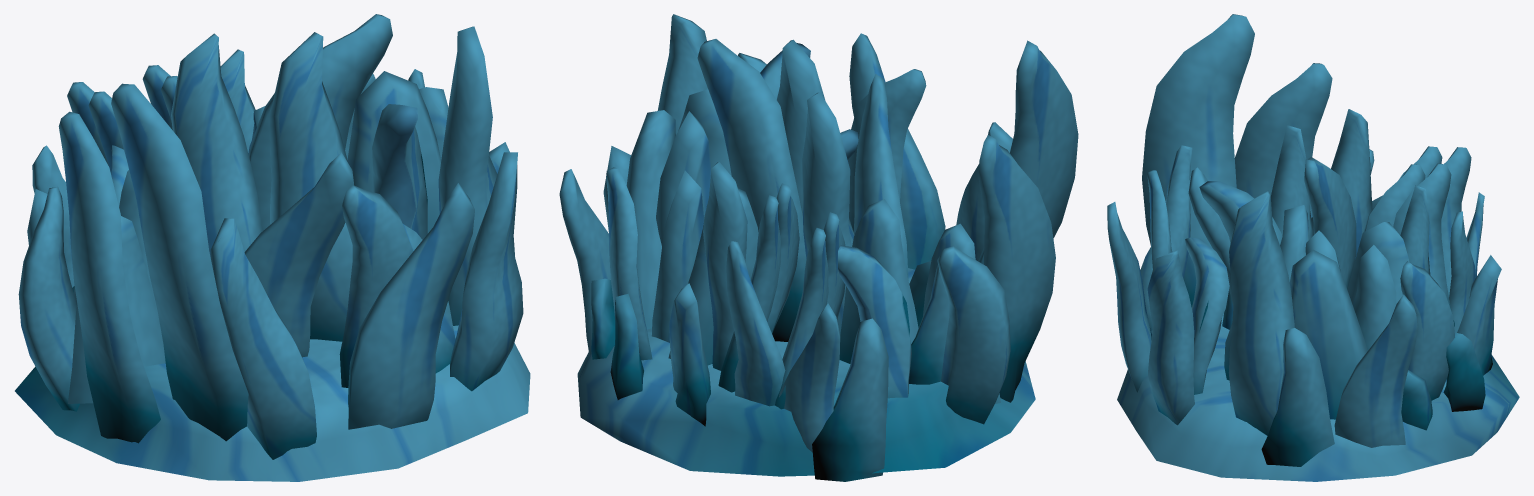
File: Algae_patch.fbx
3 renders of one model, left to right at view 1: azimuth 30°, elevation 25°; view 2: azimuth 150°, elevation 25°; view 3: azimuth 270°, elevation 25°, orthographic. The views are drawn at different scales.
Visible parts, largest first — view 1: Algae_patch; view 2: Algae_patch; view 3: Algae_patch.
Boxes of the visible parts, x1=… form: Algae_patch: x1=15, y1=14, x2=530, y2=481; Algae_patch: x1=559, y1=14, x2=1078, y2=481; Algae_patch: x1=1107, y1=14, x2=1519, y2=481.
Size of the model in its own units: 6.31 by 5.43 by 6.04.
Materials: 1 (1 with a texture image).
